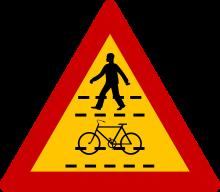Cycle Crossing: (14, 11, 207, 188)
